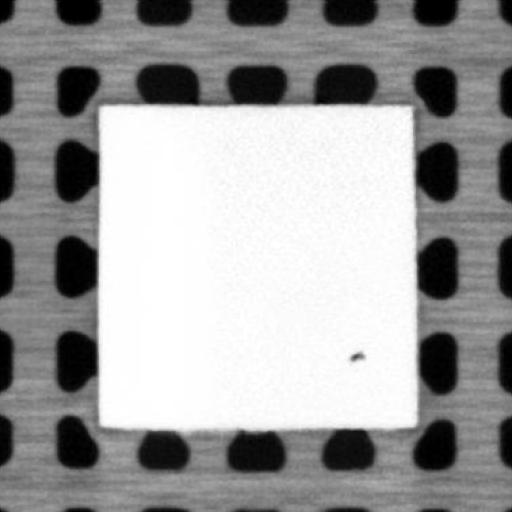DIE_INK: (344, 349, 366, 362)
